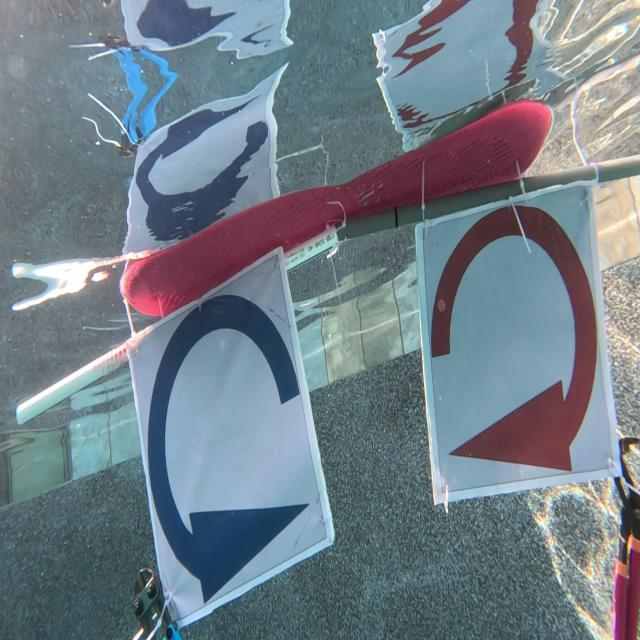blue_side: (130, 246, 333, 630)
red_side: (412, 185, 628, 504)
